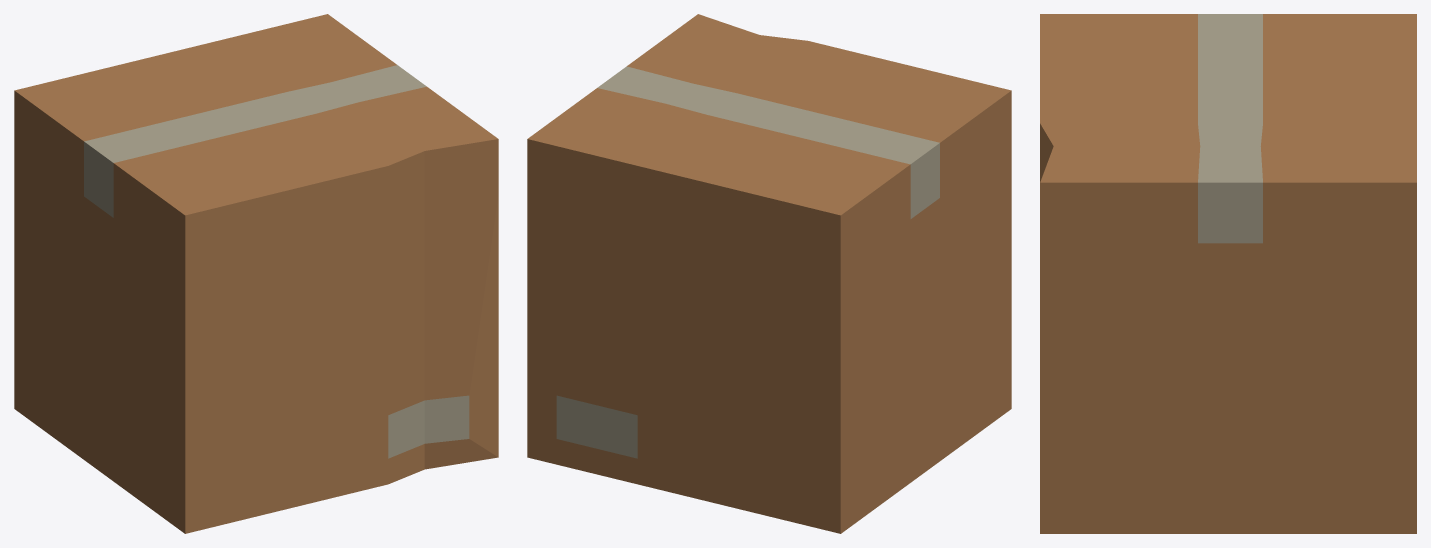
Rendered from quaternius-toon-shooter-game-cardboardboxes-2.glb.
3 views of the same model, side by side, from view 1: azimuth 30°, elevation 25°; view 2: azimuth 150°, elevation 25°; view 3: azimuth 270°, elevation 25° (orthographic). The views are drawn at different scales.
Visible parts, largest first — view 1: CardboardBoxes_2; view 2: CardboardBoxes_2; view 3: CardboardBoxes_2.
Part boxes in pixels (x1=…): CardboardBoxes_2: x1=14, y1=14, x2=498, y2=533; CardboardBoxes_2: x1=527, y1=14, x2=1011, y2=533; CardboardBoxes_2: x1=1040, y1=14, x2=1416, y2=533.
Size of the model in its own units: 0.9755 by 0.9473 by 0.9207.
